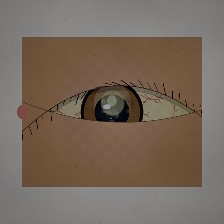corneal_ulcer: (92, 86, 133, 120)
